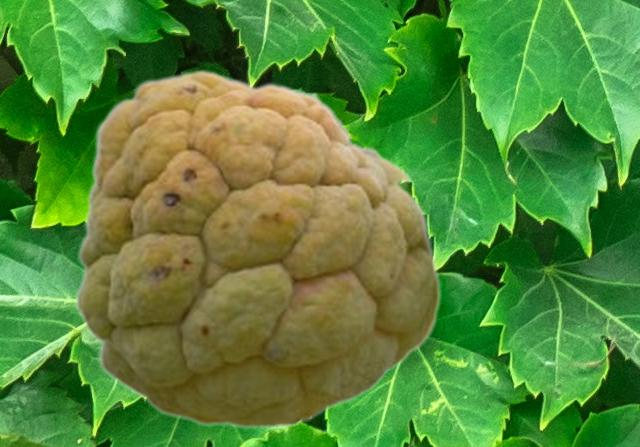atis: (73, 68, 440, 428)
